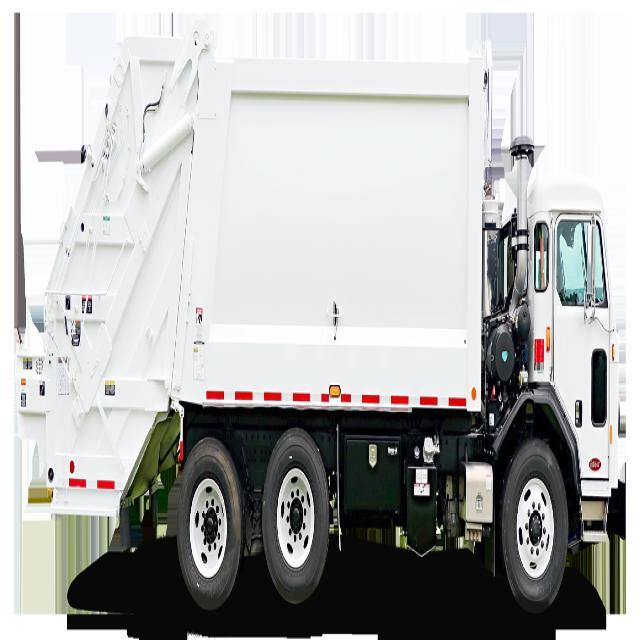traffic light: (13, 14, 621, 618)
